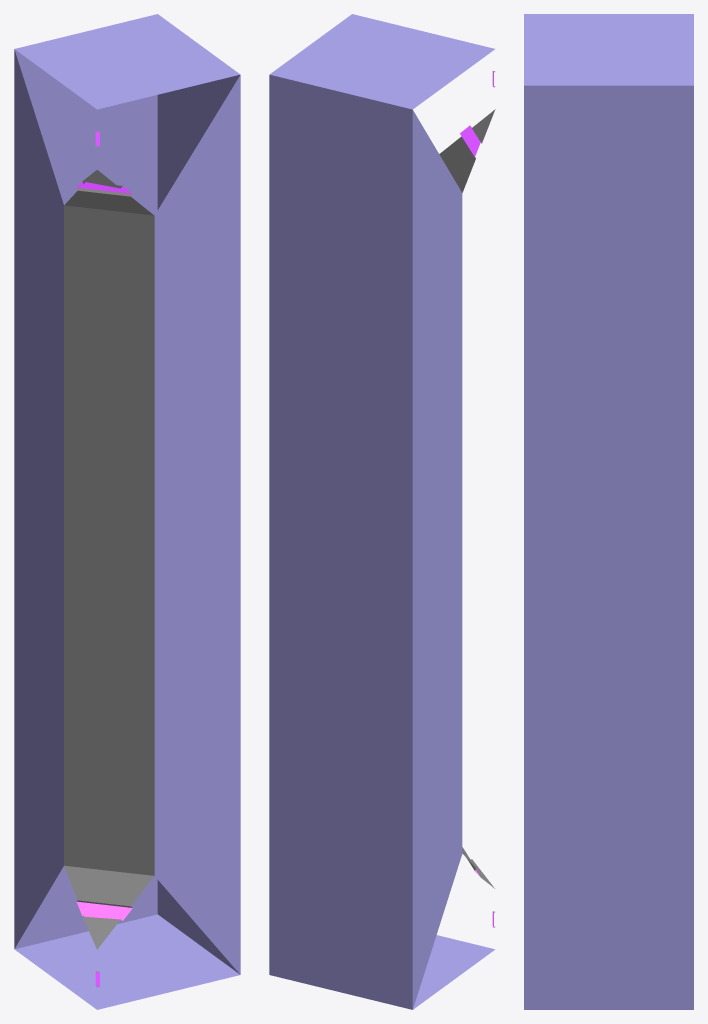
Rendered from WallCornerInverted.FBX.
3 views of the same model, side by side, from view 1: azimuth 30°, elevation 25°; view 2: azimuth 150°, elevation 25°; view 3: azimuth 270°, elevation 25° (orthographic). The views are drawn at different scales.
Parts seen in each view (by area): view 1: WallCornerInverted; view 2: WallCornerInverted; view 3: WallCornerInverted.
Part boxes in pixels (x1,y1,x2,y2): WallCornerInverted: (14,14,240,1009); WallCornerInverted: (269,14,495,1009); WallCornerInverted: (524,14,693,1009).
Size of the model in its own units: 50 by 50 by 300.
